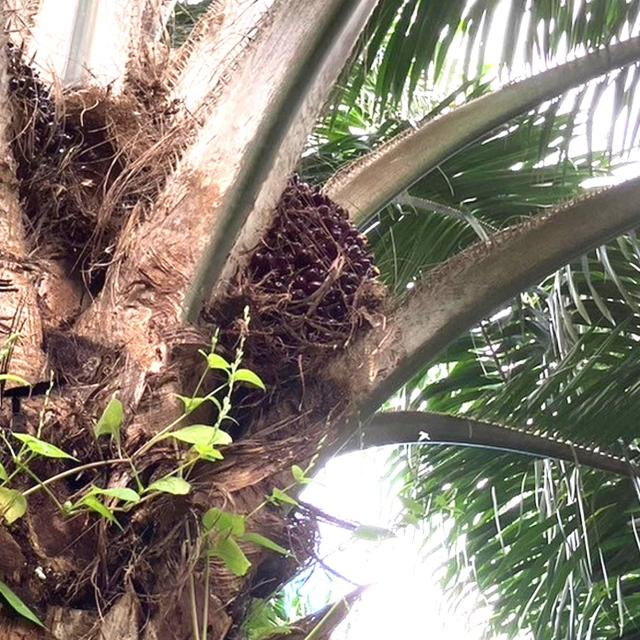ripe: (230, 160, 398, 368)
